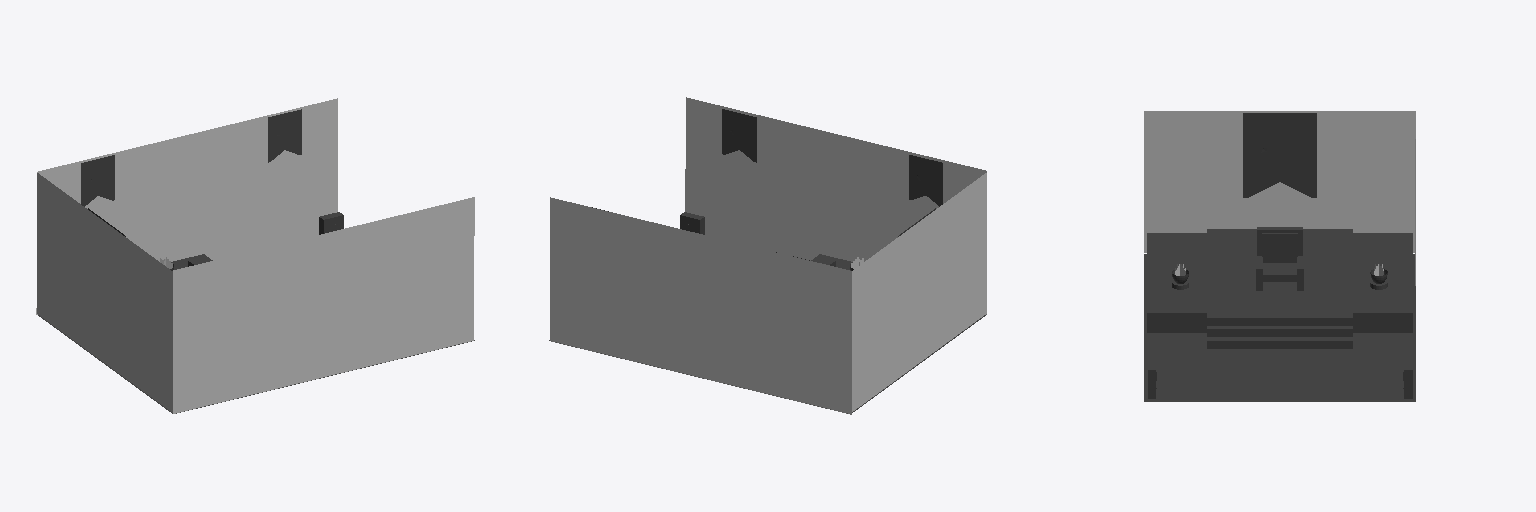
Rendered from kingdom.obj.
3 renders of one model, left to right at view 1: azimuth 30°, elevation 25°; view 2: azimuth 150°, elevation 25°; view 3: azimuth 270°, elevation 25°, orthographic.
Visible parts, largest first — view 1: Plane.003, Plane.002, Plane.001, Plane.013, Plane.009; view 2: Plane.002, Plane.003, Plane.001, Plane.011, Plane.008; view 3: Plane.001, Plane, 立方体, 立方体.005, 立方体.001, Plane.005, Plane.006, 立方体.006, 立方体.003.
Part boxes in pixels (x1,y1,x2,y2): Plane.003: (173,197,474,413); Plane.002: (36,98,337,314); Plane.001: (37,173,172,412); Plane.013: (268,109,301,162); Plane.009: (81,155,114,206); Plane.002: (550,197,851,414); Plane.003: (685,97,986,314); Plane.001: (852,173,986,411); Plane.011: (722,109,756,162); Plane.008: (909,155,942,206); Plane.001: (1144,111,1415,252); Plane: (1144,254,1415,401); 立方体: (1207,229,1352,348); 立方体.005: (1147,233,1206,332); 立方体.001: (1353,233,1412,332); Plane.005: (1243,113,1316,197); Plane.006: (1251,120,1307,181); 立方体.006: (1256,227,1303,290); 立方体.003: (1262,233,1297,262).
Bounding box in the file's own units: 79.53 × 36.2 × 61.88.